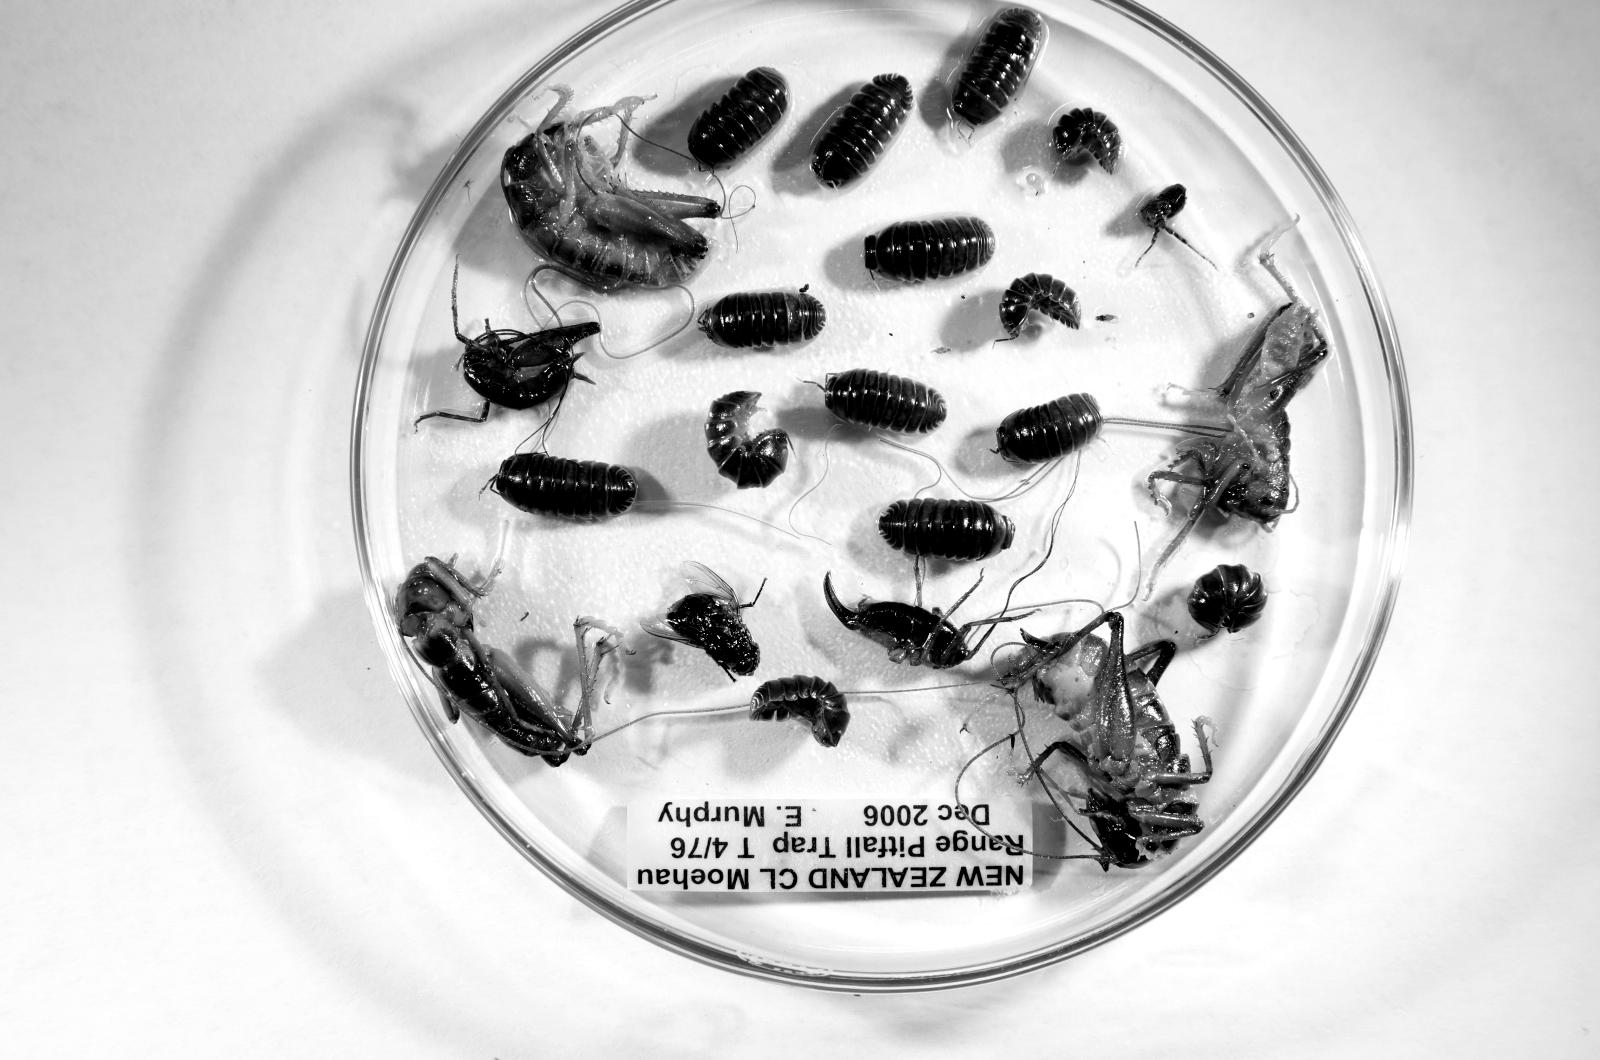diptera: (641, 561, 759, 679)
isopoda: (947, 6, 1045, 129), (811, 73, 912, 188), (688, 67, 789, 169), (487, 453, 637, 521), (863, 215, 995, 283), (879, 498, 1015, 561), (823, 369, 947, 434), (706, 392, 790, 487), (698, 287, 825, 350), (996, 394, 1103, 464), (750, 676, 849, 746), (1187, 564, 1267, 636), (1000, 273, 1080, 338), (1051, 109, 1122, 174)
opiliones: (1136, 183, 1186, 245)
orthoptera: (1142, 226, 1329, 592), (1006, 612, 1211, 865), (395, 556, 620, 767), (501, 85, 721, 287), (414, 322, 601, 428), (823, 573, 976, 668)
